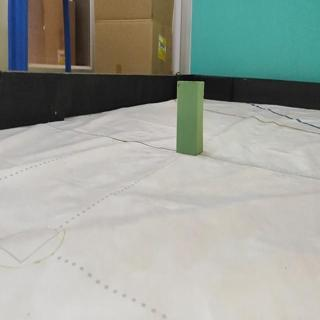greenbox: (175, 79, 205, 156)
